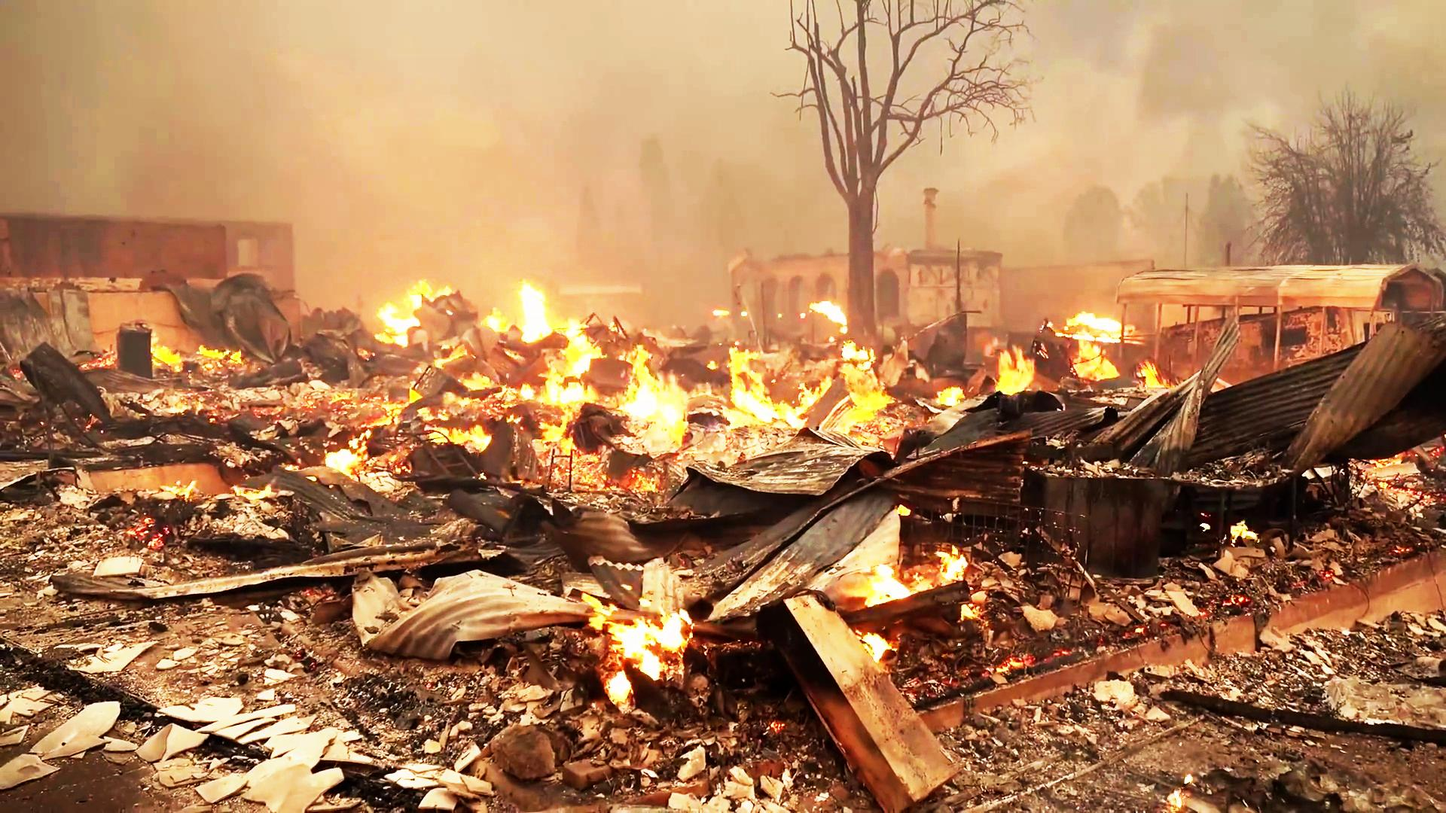fire: (710, 328, 893, 438), (526, 339, 725, 426), (373, 256, 569, 342), (1049, 303, 1143, 396)
smoke: (345, 0, 602, 226), (1085, 0, 1291, 155)
